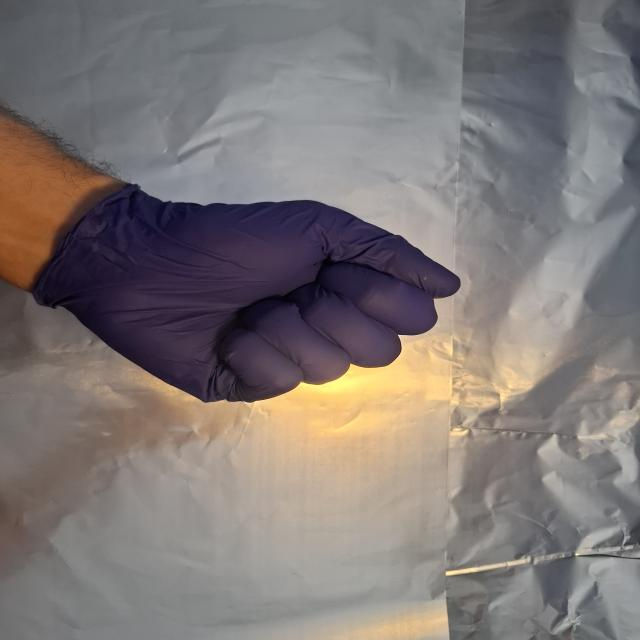glove_on: (29, 180, 468, 407)
